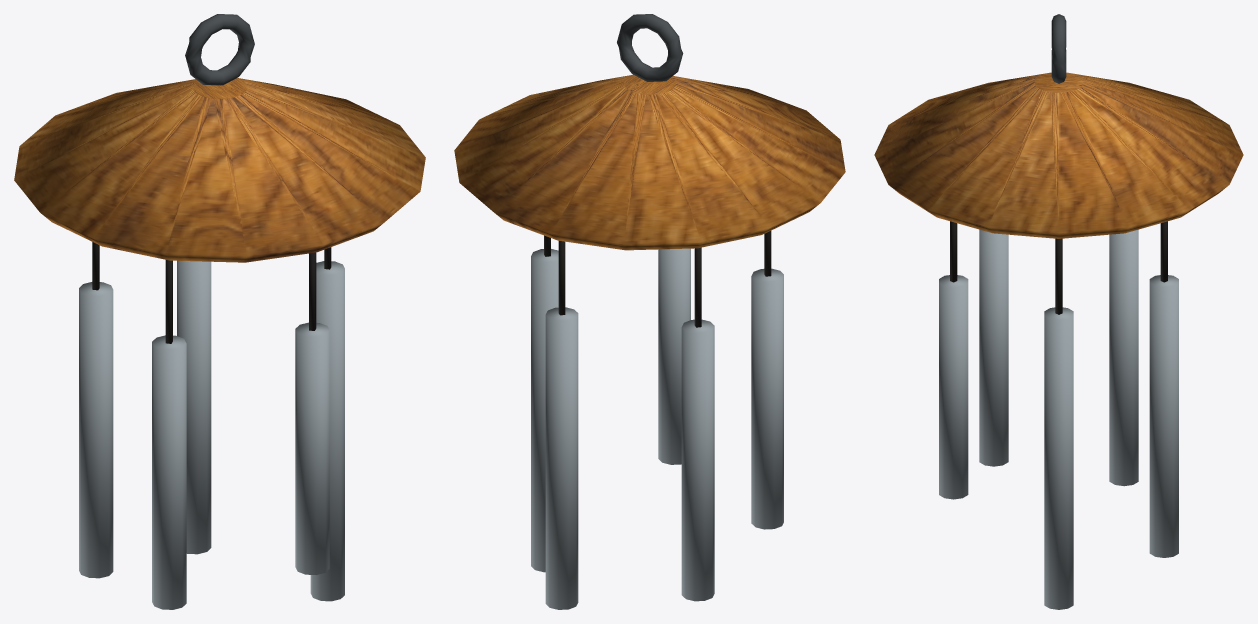
Rendered from item_chime.glb.
3 views of the same model, side by side, from view 1: azimuth 30°, elevation 25°; view 2: azimuth 150°, elevation 25°; view 3: azimuth 270°, elevation 25° (orthographic). The views are drawn at different scales.
Visible parts, largest first — view 1: props_chime; view 2: props_chime; view 3: props_chime.
Part boxes in pixels (x1=…): props_chime: x1=14, y1=14, x2=425, y2=609; props_chime: x1=454, y1=14, x2=845, y2=609; props_chime: x1=874, y1=14, x2=1243, y2=609.
Bounding box in the file's own units: 0.6 × 0.967 × 0.6.
4 materials, 1 textured.
